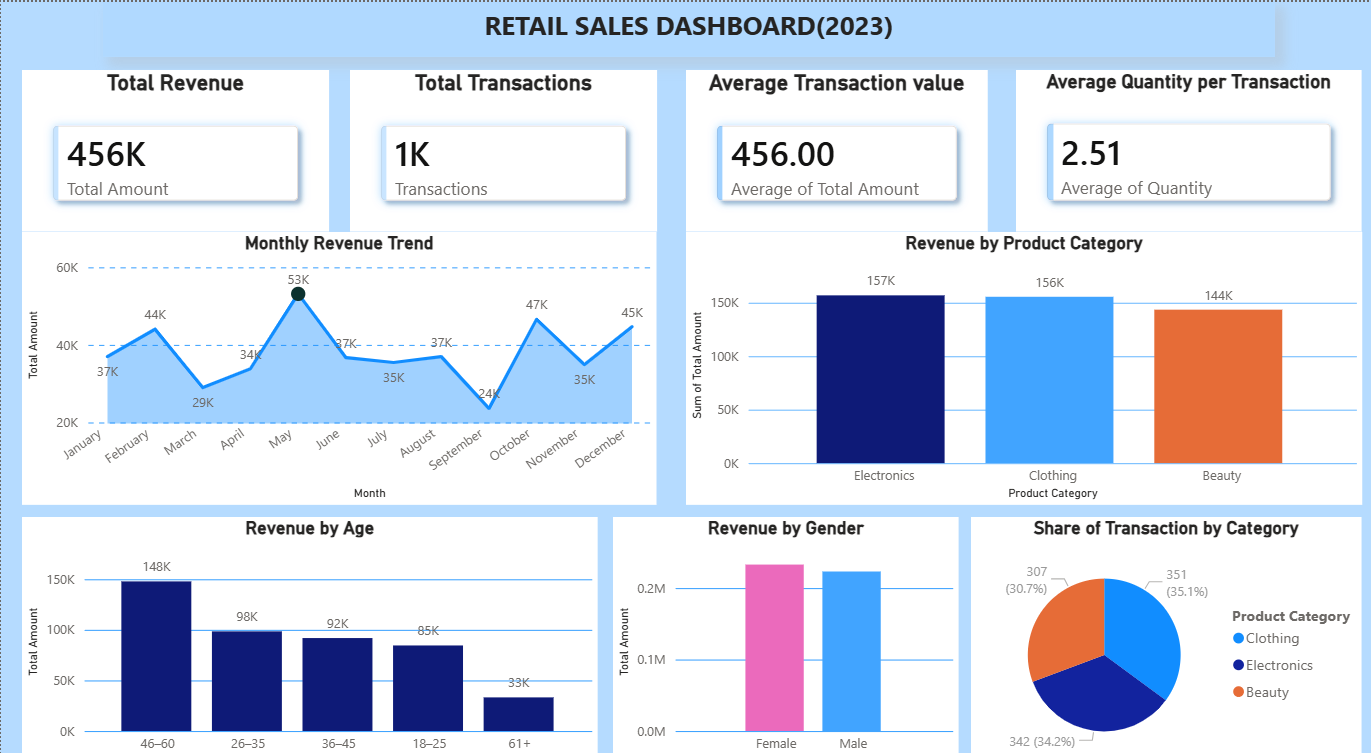

The dashboard page shown, as its layout file describes it:
{"tool":"powerbi","page":{"name":"Page 1","canvas":[1280,720],"ordinal":0},"visuals":[{"type":"textbox","box":[95.3,0,1095.3,51.4],"z":0},{"type":"cardVisual","title":"Total Revenue","fields":{"Data":["Sum(retail_sales_dataset.Total Amount)"]},"box":[20,64,287,151],"z":1000},{"type":"cardVisual","title":"Total Transactions","fields":{"Data":["CountNonNull(retail_sales_dataset.Transaction ID)"]},"box":[326,64,287,151],"z":2000},{"type":"cardVisual","title":"Average Transaction value","fields":{"Data":["Avg(retail_sales_dataset.Total Amount)"]},"box":[640,64,282,151],"z":3000},{"type":"cardVisual","title":"Average Quantity per Transaction","fields":{"Data":["Avg(retail_sales_dataset.Quantity)"]},"box":[949,64,323,151],"z":4000},{"type":"clusteredColumnChart","title":"Revenue by Product Category","fields":{"Y":["Sum(retail_sales_dataset.Total Amount)"],"Category":["retail_sales_dataset.Product Category"]},"box":[640,215,632,255],"z":5000},{"type":"pieChart","title":"Share of Transaction by Category","fields":{"Y":["CountNonNull(retail_sales_dataset.Transaction ID)"],"Category":["retail_sales_dataset.Product Category"]},"box":[907,481,365,239],"z":6000},{"type":"clusteredColumnChart","title":"Revenue by Gender","fields":{"Y":["Sum(retail_sales_dataset.Total Amount)"],"Category":["retail_sales_dataset.Gender"]},"box":[572,481,323,239],"z":7000},{"type":"columnChart","title":"Revenue by Age ","fields":{"Y":["Sum(retail_sales_dataset.Total Amount)"],"Category":["retail_sales_dataset.Age group"]},"box":[20,481,538,239],"z":8000},{"type":"lineChart","title":"Monthly Revenue Trend","fields":{"Y":["Sum(retail_sales_dataset.Total Amount)"],"Category":["retail_sales_dataset.Date.Variation.Date Hierarchy.Month"]},"box":[20,215,593,255],"z":9000}]}

Visuals, with their boxes in screenshot pixels (x1, y1, x2, y2), scaled from the page's 1280x720 canvas onto the 1371x753 screenshot:
textbox: locate(102, 0, 1275, 54)
"Total Revenue" cardVisual: locate(21, 67, 329, 225)
"Total Transactions" cardVisual: locate(349, 67, 657, 225)
"Average Transaction value" cardVisual: locate(686, 67, 988, 225)
"Average Quantity per Transaction" cardVisual: locate(1016, 67, 1362, 225)
"Revenue by Product Category" clusteredColumnChart: locate(686, 225, 1362, 492)
"Share of Transaction by Category" pieChart: locate(971, 503, 1362, 752)
"Revenue by Gender" clusteredColumnChart: locate(613, 503, 959, 752)
"Revenue by Age " columnChart: locate(21, 503, 598, 752)
"Monthly Revenue Trend" lineChart: locate(21, 225, 657, 492)
